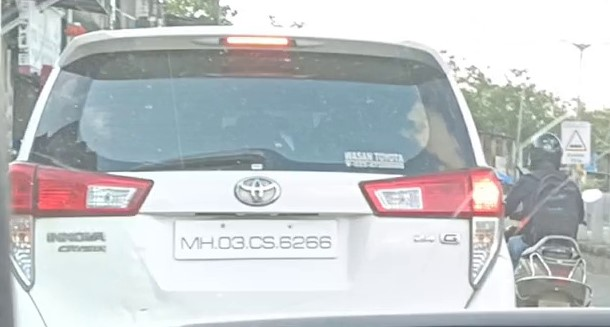MH03CS6266: (174, 222, 340, 258)
